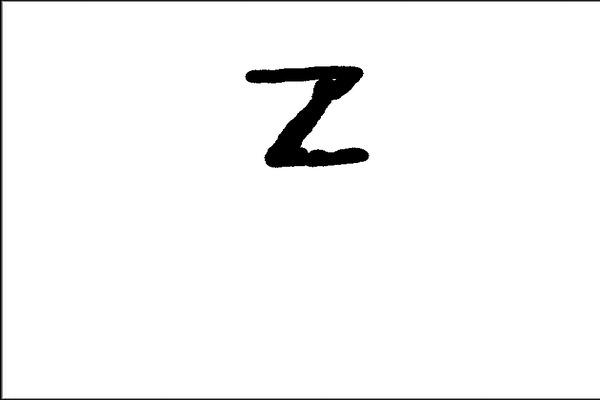Z: (237, 59, 380, 175)
